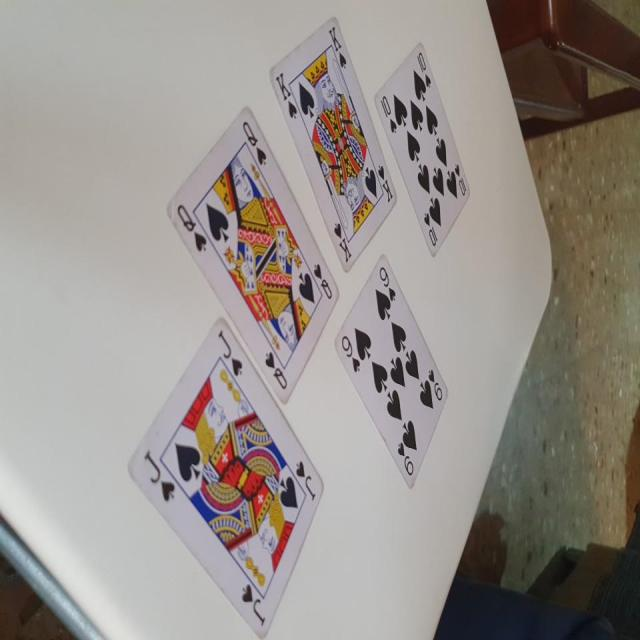10 Spades: (374, 36, 475, 258)
9 Spades: (326, 245, 451, 488)
J Spades: (114, 314, 324, 640)
K Spades: (267, 12, 402, 281)
Q Spades: (160, 100, 344, 402)
